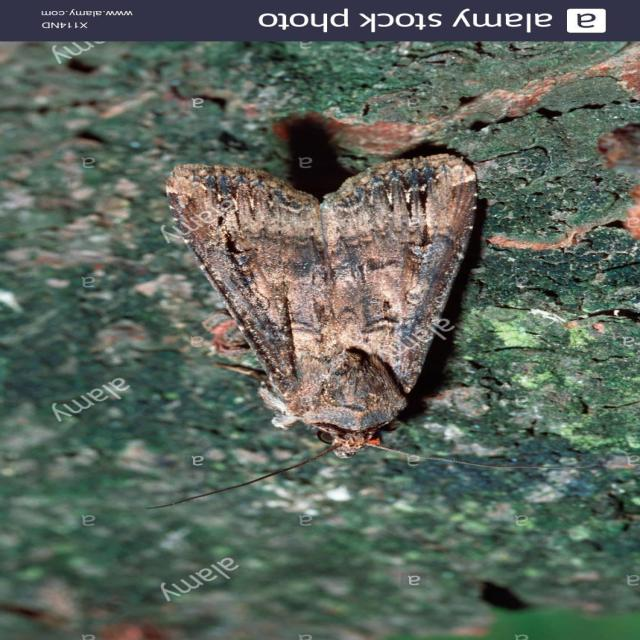black cutworm: (132, 148, 472, 465)
